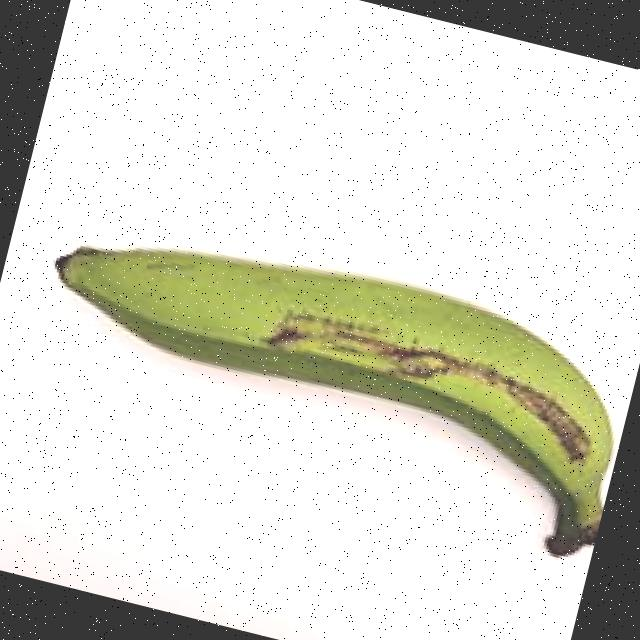Raw: (0, 176, 640, 579)
